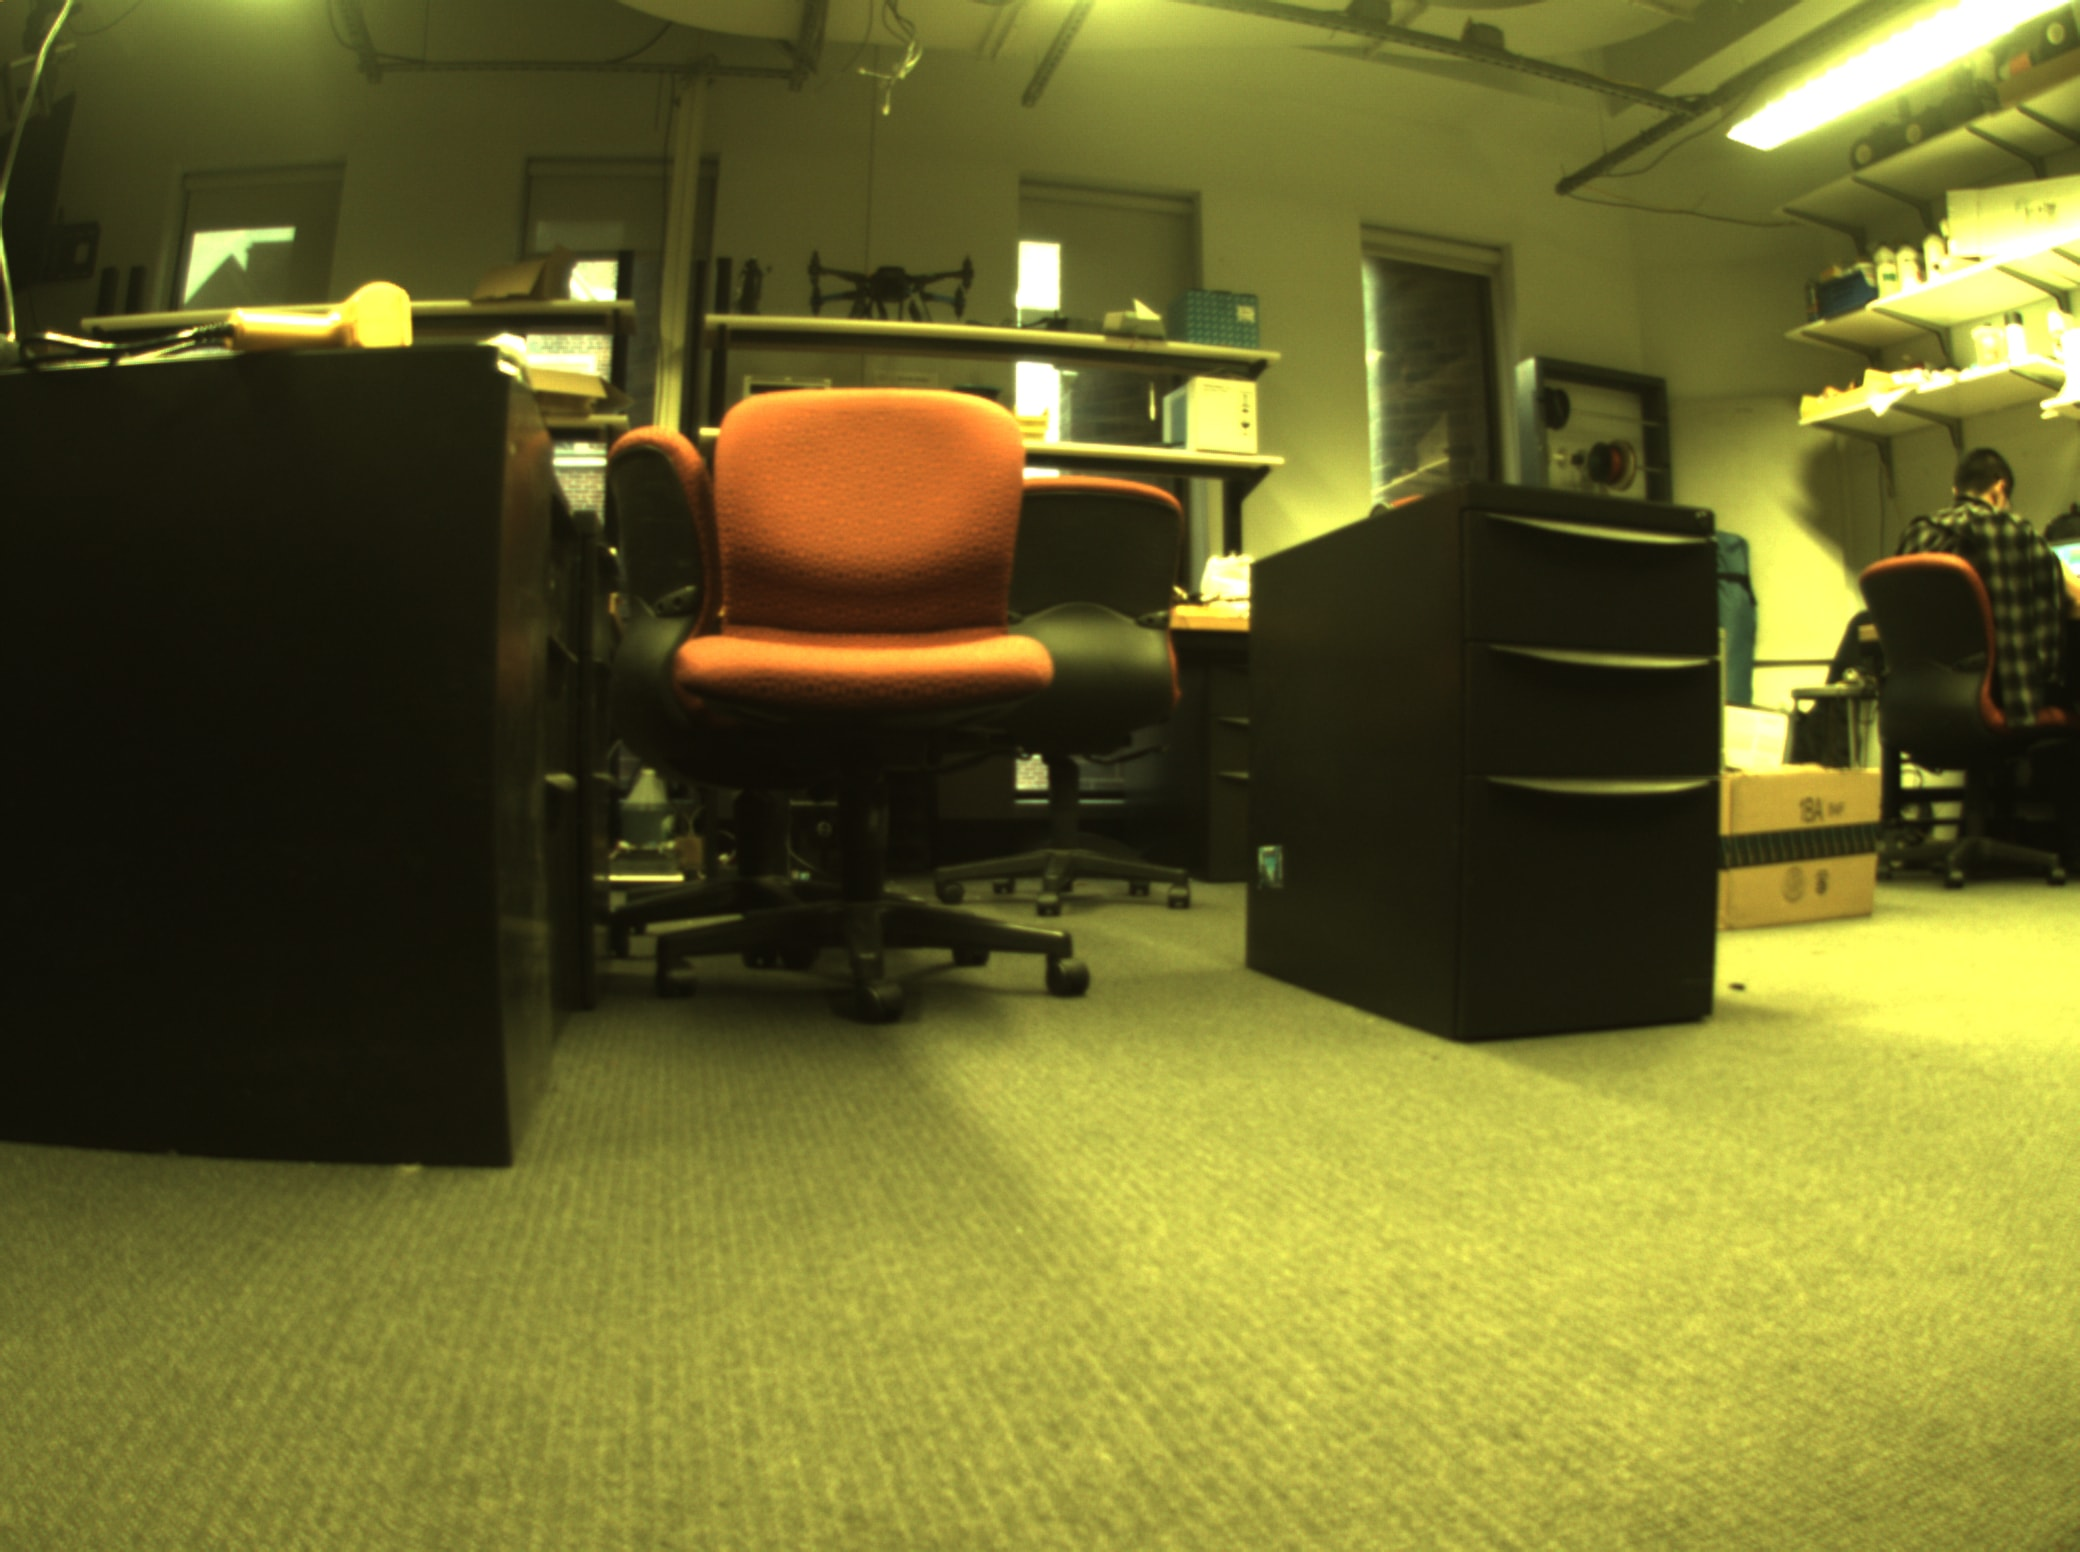chair: (673, 362, 1105, 1027), (585, 404, 866, 959), (919, 447, 1190, 928), (1847, 548, 2065, 908)
